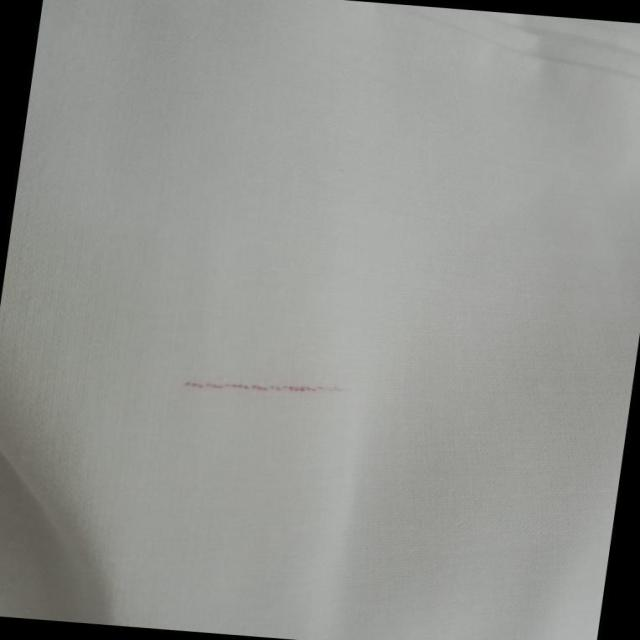contamination: (153, 366, 346, 407)
